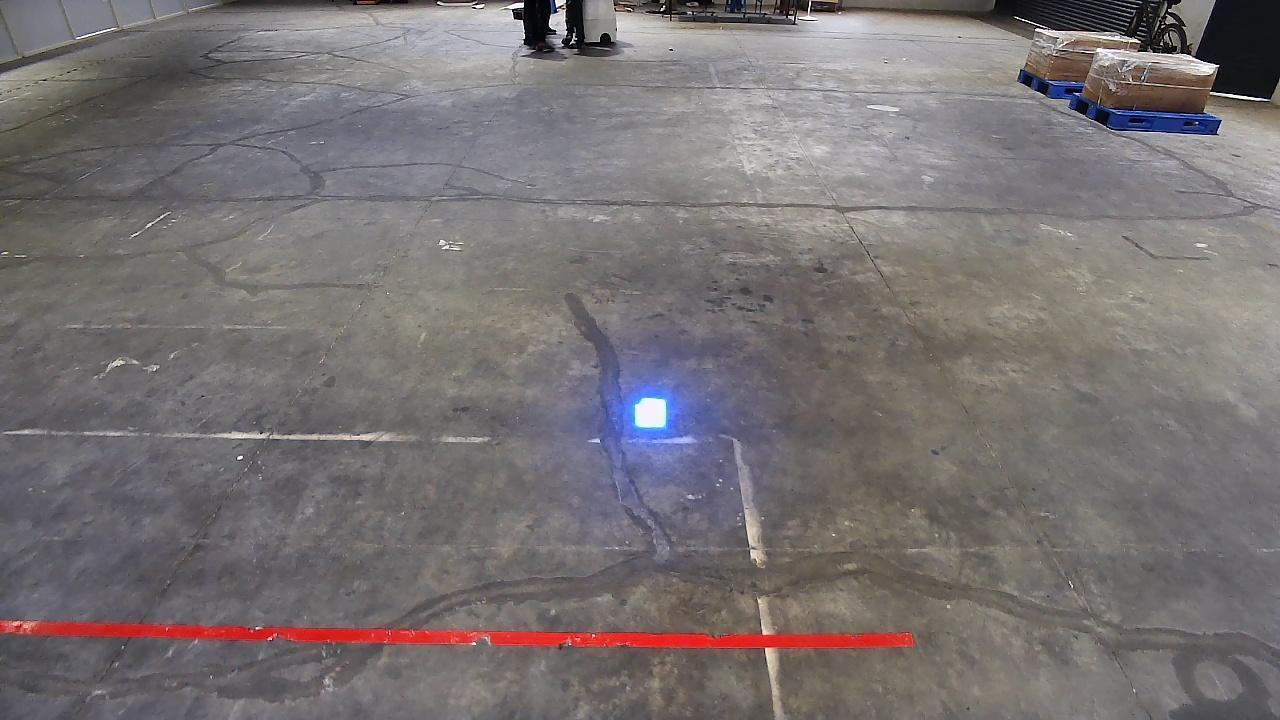red_line: (1, 618, 922, 645)
